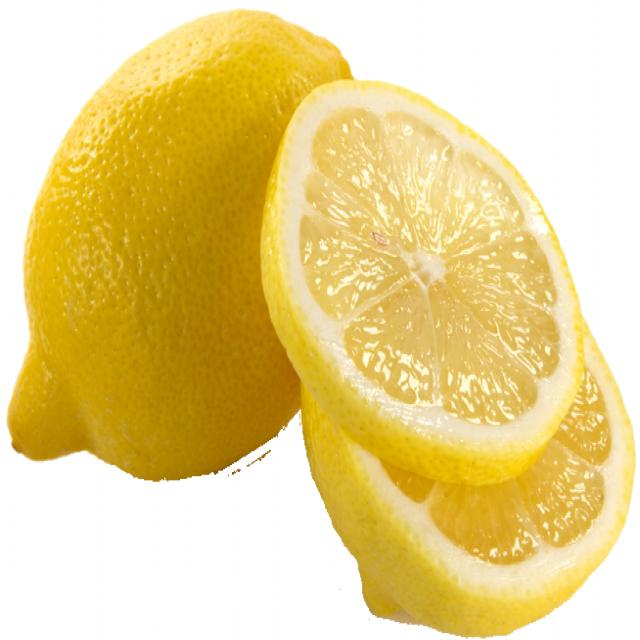lemon: (2, 21, 264, 500), (272, 76, 582, 454), (308, 464, 640, 628)
